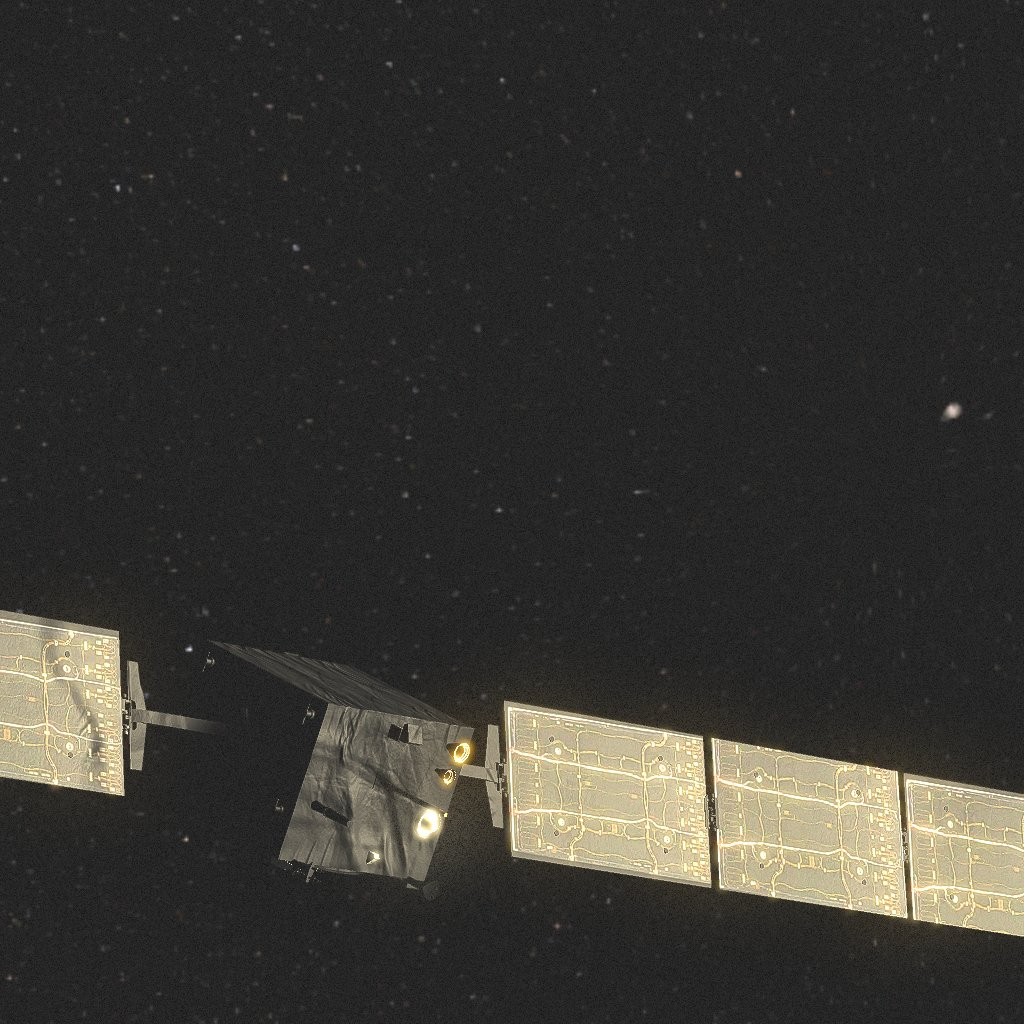smart_1: (0, 610, 1024, 938)
